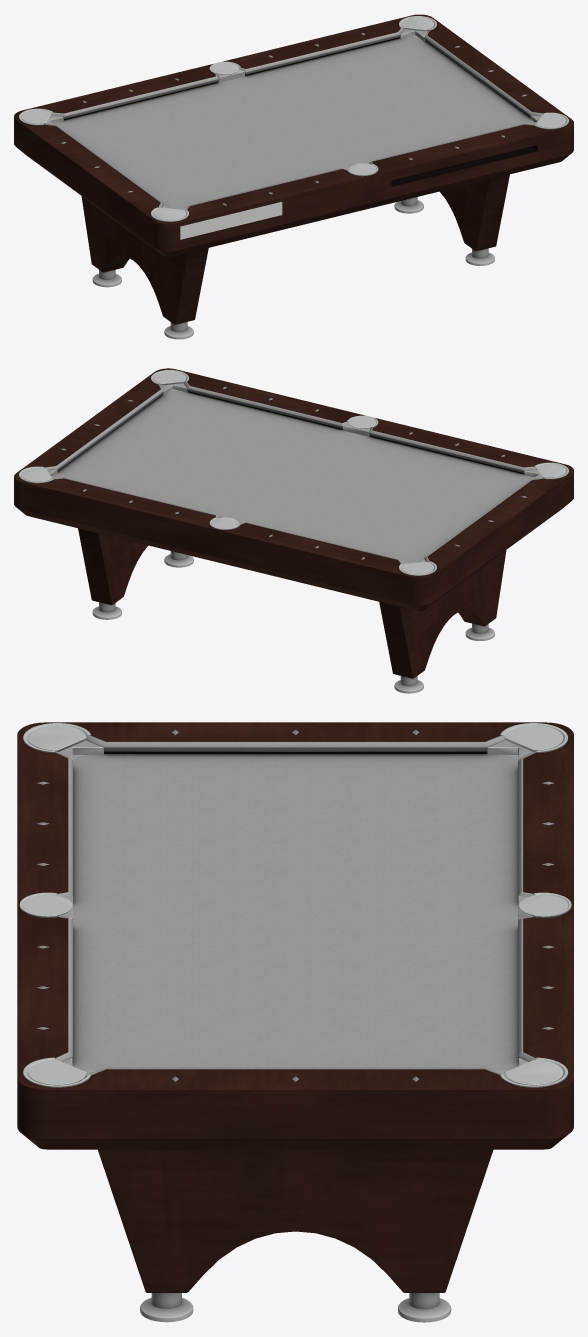
The model's file is tabletop.fbx.
The picture shows the model from 3 angles, top to bottom: view 1: azimuth 30°, elevation 25°; view 2: azimuth 150°, elevation 25°; view 3: azimuth 270°, elevation 25°; orthographic projection. The views are drawn at different scales.
Parts seen in each view (by area): view 1: table, 4ball_fillers, score; view 2: table, 4ball_fillers; view 3: table, 4ball_fillers.
Boxes of the visible parts, box(x1,y1,x2,y2) form: table: box(14, 14, 573, 339); 4ball_fillers: box(21, 17, 566, 220); score: box(180, 202, 282, 239); table: box(14, 368, 573, 693); 4ball_fillers: box(21, 371, 566, 574); table: box(17, 722, 573, 1322); 4ball_fillers: box(23, 725, 568, 1085).
Size of the model in its own units: 250 by 86.92 by 161.
